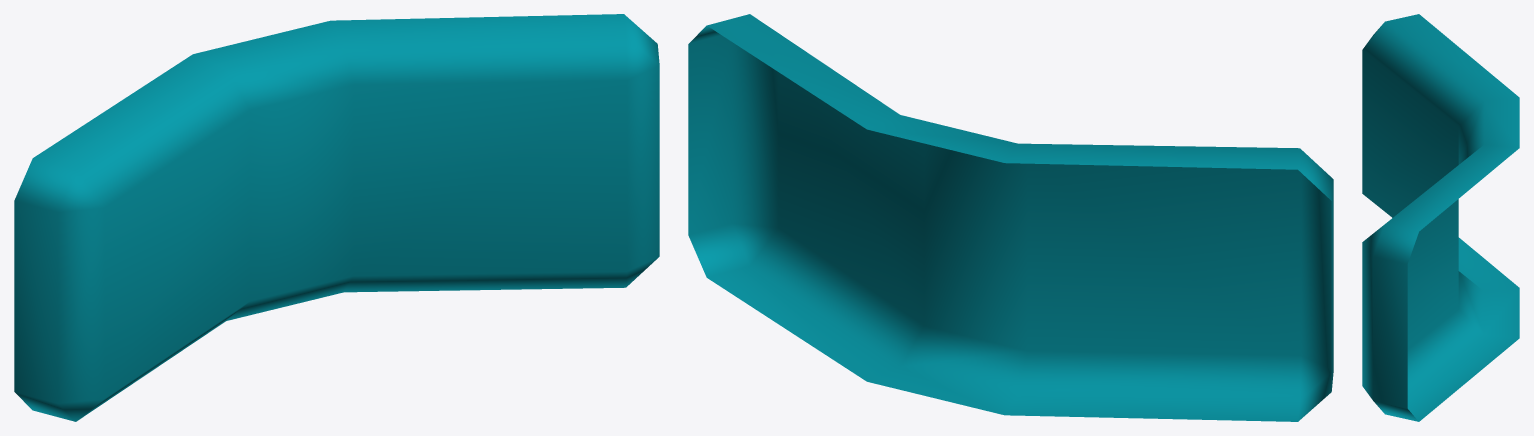
File: building_008.fbx
The picture shows the model from 3 angles, left to right: view 1: azimuth 30°, elevation 25°; view 2: azimuth 150°, elevation 25°; view 3: azimuth 270°, elevation 25°; orthographic projection. The views are drawn at different scales.
Parts seen in each view (by area): view 1: building_008; view 2: building_008; view 3: building_008.
Part boxes in pixels (x1=…): building_008: x1=14, y1=14, x2=659, y2=421; building_008: x1=688, y1=14, x2=1333, y2=421; building_008: x1=1362, y1=14, x2=1519, y2=421.
Size of the model in its own units: 1105 by 309 by 414.
